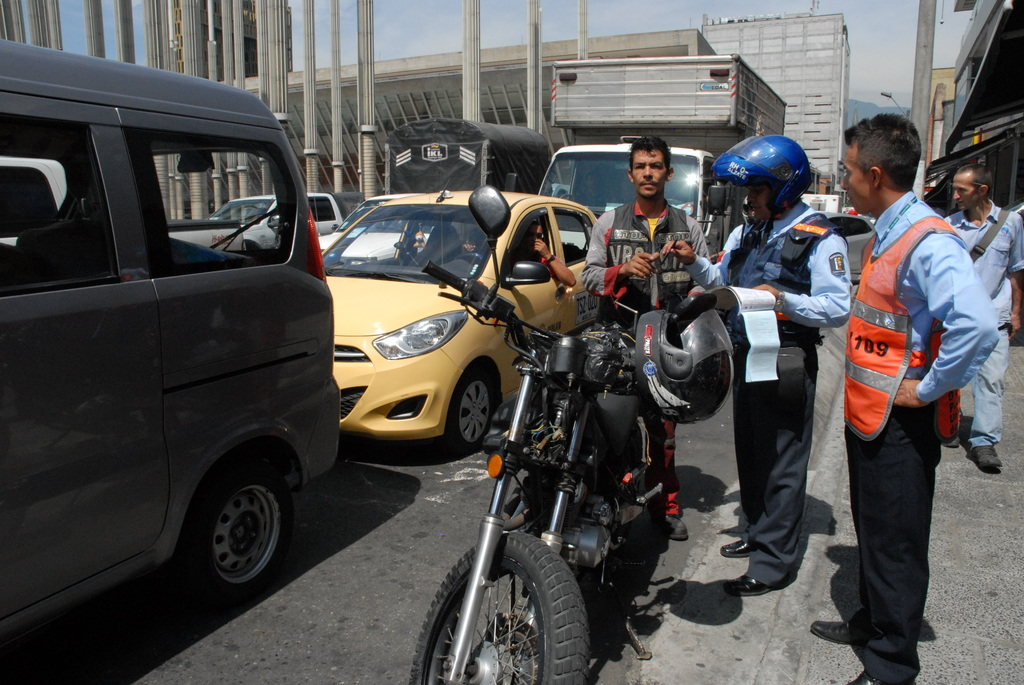Motorcycle: (420, 186, 670, 684)
